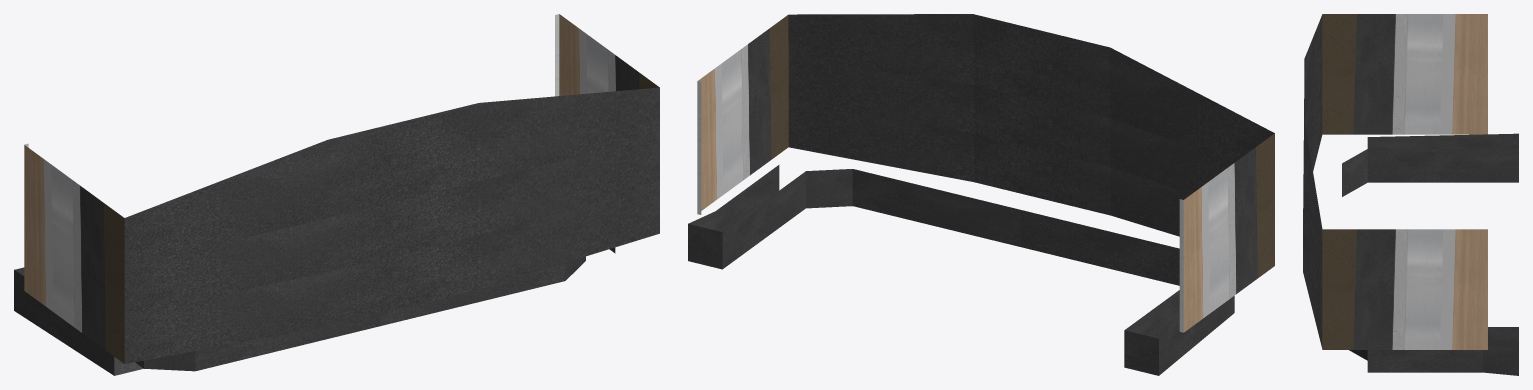
File: Stage_Back.fbx
3 renders of one model, left to right at view 1: azimuth 30°, elevation 25°; view 2: azimuth 150°, elevation 25°; view 3: azimuth 270°, elevation 25°, orthographic. The views are drawn at different scales.
Parts seen in each view (by area): view 1: Stage_Back; view 2: Stage_Back; view 3: Stage_Back.
Boxes of the visible parts, x1=… form: Stage_Back: x1=14, y1=14, x2=659, y2=375; Stage_Back: x1=688, y1=14, x2=1274, y2=375; Stage_Back: x1=1303, y1=14, x2=1518, y2=375.
Bounding box in the file's own units: 41.75 × 16.51 × 17.67.
